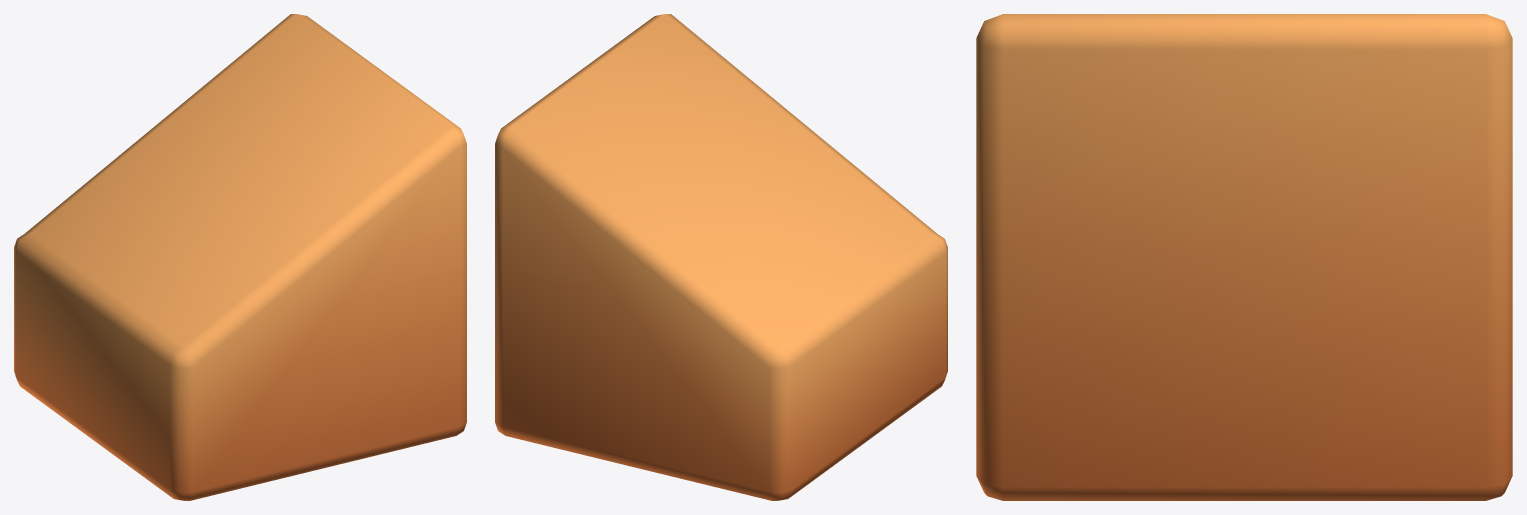
File: 3D_Tile_Ground_Slope_02A.fbx
3 renders of one model, left to right at view 1: azimuth 30°, elevation 25°; view 2: azimuth 150°, elevation 25°; view 3: azimuth 270°, elevation 25°, orthographic. The views are drawn at different scales.
Visible parts, largest first — view 1: 3D_Tile_Ground_Slope_02A; view 2: 3D_Tile_Ground_Slope_02A; view 3: 3D_Tile_Ground_Slope_02A.
Part boxes in pixels (x1=…): 3D_Tile_Ground_Slope_02A: x1=14, y1=14, x2=466, y2=500; 3D_Tile_Ground_Slope_02A: x1=495, y1=14, x2=947, y2=500; 3D_Tile_Ground_Slope_02A: x1=976, y1=14, x2=1512, y2=500.
Bounding box in the file's own units: 200 × 200 × 200.
